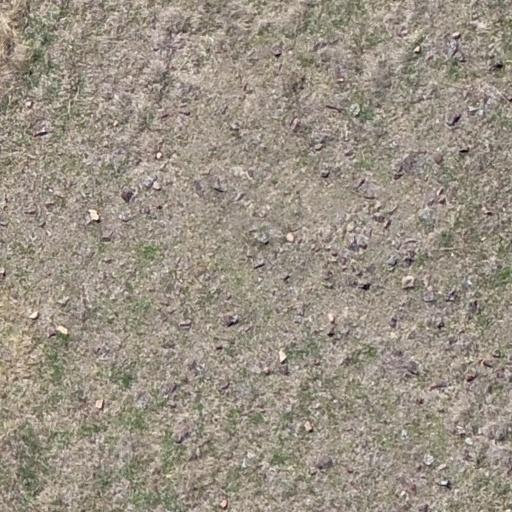stone: (251, 228, 272, 244), (173, 429, 191, 445), (314, 134, 332, 150), (94, 344, 112, 360), (134, 392, 150, 410), (400, 480, 418, 496), (48, 187, 66, 203), (315, 456, 334, 471), (445, 110, 462, 126), (212, 177, 228, 193), (400, 274, 418, 288), (386, 310, 400, 328), (311, 39, 327, 53), (120, 189, 134, 204), (334, 67, 346, 84), (163, 382, 177, 396), (402, 253, 416, 267), (347, 238, 361, 252), (406, 361, 420, 375), (142, 175, 156, 189), (100, 228, 114, 242), (422, 288, 436, 302), (289, 117, 301, 133), (187, 448, 201, 461), (395, 25, 409, 38), (88, 208, 100, 222), (56, 295, 70, 307), (429, 382, 447, 391), (33, 127, 49, 137), (436, 479, 452, 489), (226, 315, 239, 327), (386, 254, 399, 266), (278, 363, 290, 376), (56, 324, 69, 336), (179, 318, 192, 330), (372, 213, 386, 224), (271, 44, 282, 58), (468, 299, 478, 314), (218, 379, 230, 391), (118, 211, 131, 222), (326, 324, 336, 338), (252, 260, 266, 270), (23, 206, 37, 216), (433, 153, 444, 165), (423, 454, 434, 466), (355, 177, 366, 189), (436, 318, 446, 330), (446, 290, 456, 302), (229, 122, 241, 132), (234, 192, 246, 202), (304, 421, 314, 433), (491, 61, 503, 71), (481, 206, 493, 216), (279, 350, 287, 364), (346, 221, 356, 232), (95, 398, 104, 410), (466, 373, 478, 382), (219, 498, 228, 510), (482, 359, 494, 368), (342, 128, 350, 141), (464, 436, 474, 446), (359, 282, 371, 290), (458, 146, 470, 154), (383, 218, 391, 230), (320, 169, 330, 178), (393, 171, 403, 180), (47, 329, 57, 338), (451, 31, 461, 40), (286, 232, 294, 242), (314, 143, 324, 151), (492, 350, 502, 358), (400, 429, 408, 439), (437, 463, 447, 471), (413, 45, 421, 54), (438, 196, 446, 205), (178, 110, 190, 116), (282, 274, 290, 282), (416, 397, 424, 405), (38, 220, 46, 228), (25, 100, 33, 108), (399, 490, 407, 498), (390, 331, 398, 339), (436, 188, 444, 196), (263, 366, 270, 374), (112, 120, 119, 127), (215, 345, 223, 351), (156, 152, 162, 160), (156, 204, 163, 210), (508, 96, 512, 103)
